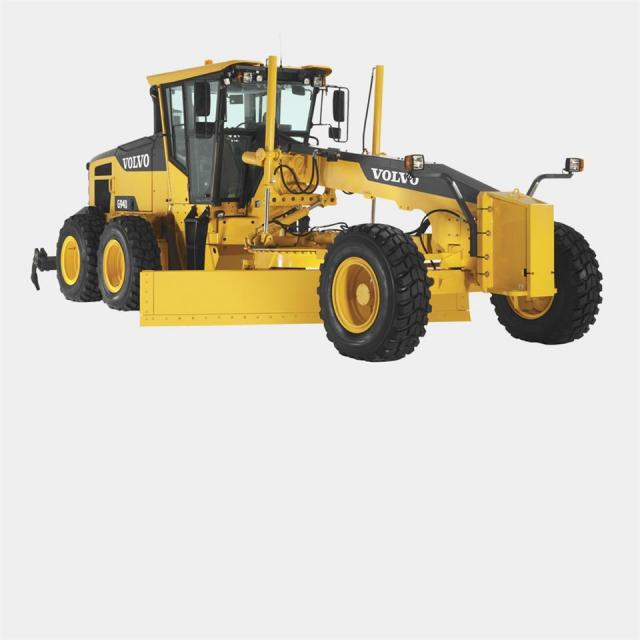Grader: (36, 49, 618, 369)
